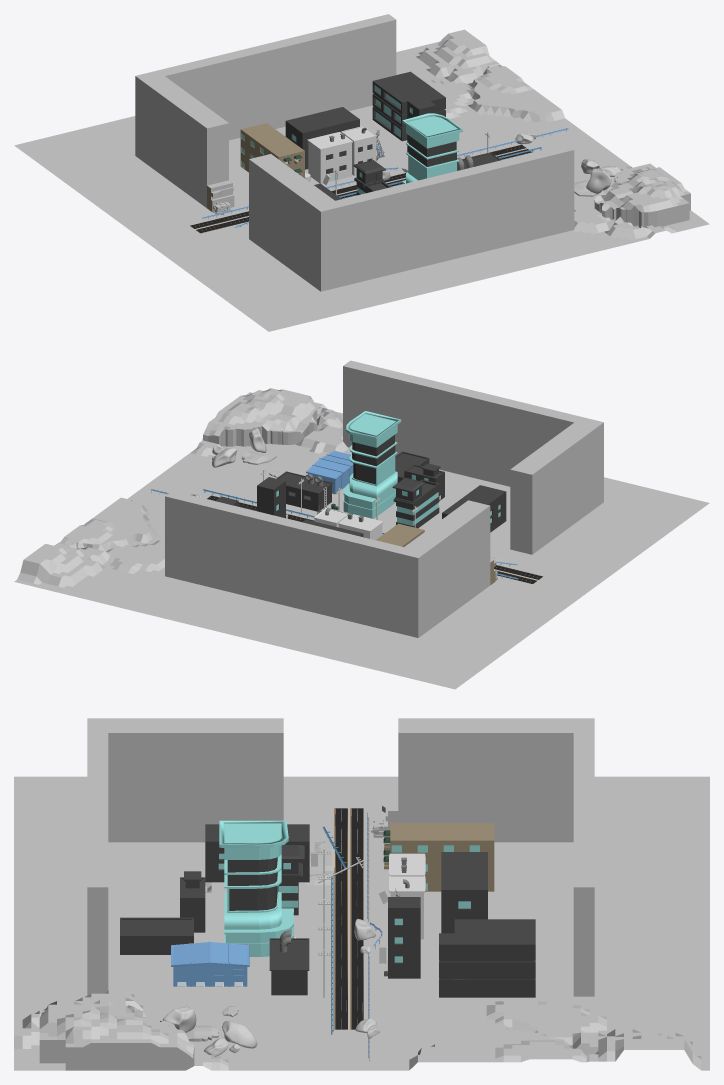
File: town_noLight.fbx
The picture shows the model from 3 angles, top to bottom: view 1: azimuth 30°, elevation 25°; view 2: azimuth 150°, elevation 25°; view 3: azimuth 270°, elevation 25°; orthographic projection. The views are drawn at different scales.
Parts seen in each view (by area): view 1: Cube.013, Plane.016, Cube.014, Cube.012, Cube.001, Cube.002, Cube.004, Cube.003, Cube.010, Plane.001, Plane, Cube.011; view 2: Plane.016, Cube.013, Cube.014, Cube.010, Cube.009, Cube.008, Cube, Cube.011, Cube.005, Cube.002, Cube.001, Cube.006; view 3: Plane.016, Cube.013, Cube.014, Cube.012, Cube.001, Cube.004, Cube.008, Plane, Plane.001, Cube.011, Cube.006, Cube.009 (+7 smaller).
Part boxes in pixels (x1,y1,x2,y2): Cube.013: (135,14,574,291); Plane.016: (14,29,709,331); Cube.014: (401,113,462,184); Cube.012: (372,71,445,141); Cube.001: (240,123,304,178); Cube.002: (307,132,352,183); Cube.004: (285,107,359,169); Cube.003: (341,126,377,175); Cube.010: (353,160,390,195); Plane.001: (190,144,526,228); Plane: (196,149,531,233); Cube.011: (407,96,435,152); Plane.016: (14,388,709,689); Cube.013: (165,360,603,637); Cube.014: (343,411,401,518); Cube.010: (392,477,439,528); Cube.009: (277,471,333,511); Cube.008: (306,450,353,494); Cube: (442,485,506,532); Cube.011: (257,477,285,518); Cube.005: (404,463,444,500); Cube.002: (338,514,383,539); Cube.001: (376,523,424,546); Cube.006: (395,451,429,482); Plane.016: (14,776,709,1070); Cube.013: (87,718,594,996); Cube.014: (219,820,293,956); Cube.012: (439,919,535,997); Cube.001: (383,823,494,891); Cube.004: (441,852,487,933); Cube.008: (171,941,249,986); Plane: (334,808,347,1029); Plane.001: (350,808,363,1029); Cube.011: (384,897,420,978); Cube.006: (120,917,193,954); Cube.009: (269,938,309,995).
Size of the model in its own units: 13287 by 2443 by 13287.
